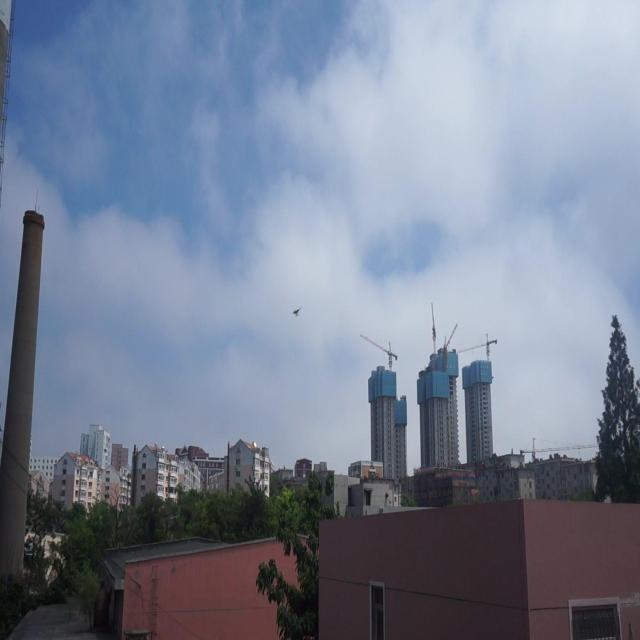drone: (290, 306, 303, 319)
